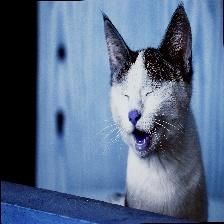kedo: (104, 5, 208, 222)
